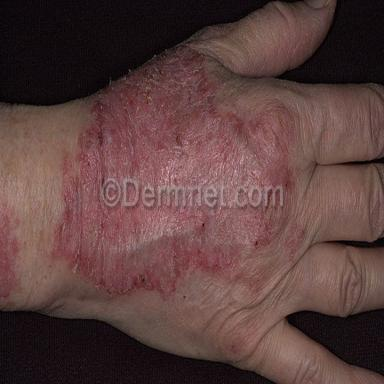eczema: (50, 48, 298, 296), (0, 201, 25, 300), (283, 221, 306, 262), (227, 336, 248, 353)
